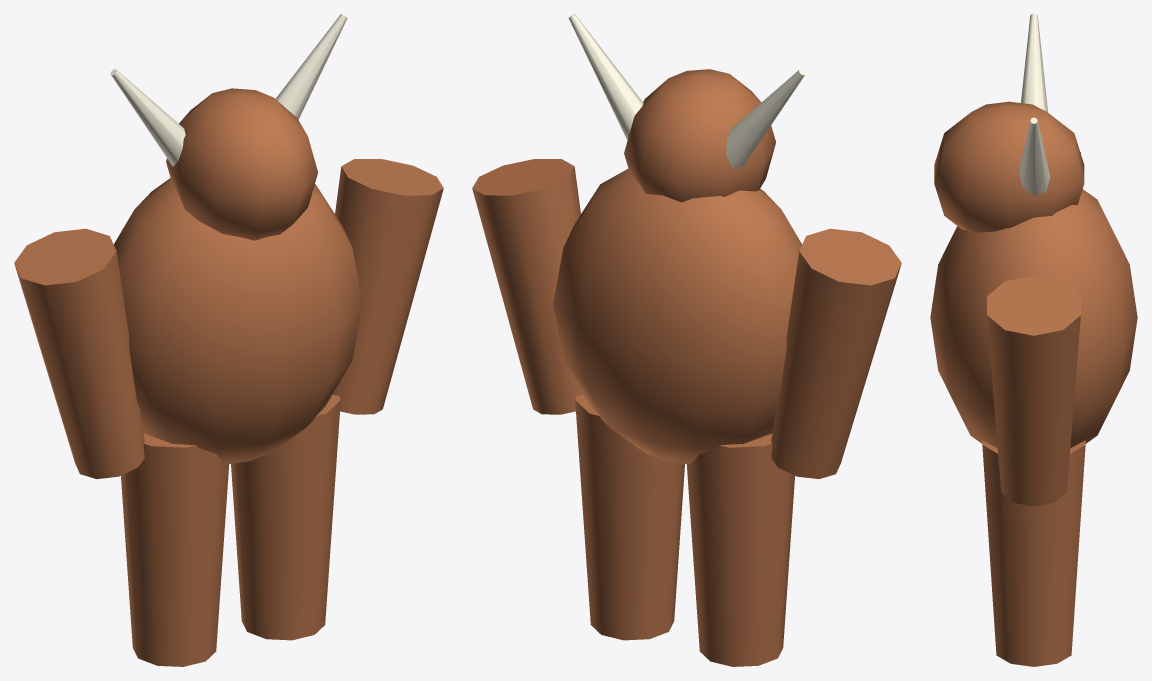
File: mon_bull.glb
3 views of the same model, side by side, from view 1: azimuth 30°, elevation 25°; view 2: azimuth 150°, elevation 25°; view 3: azimuth 270°, elevation 25° (orthographic). The views are drawn at different scales.
Visible parts, largest first — view 1: beast_body, beast_horns; view 2: beast_body, beast_horns; view 3: beast_body, beast_horns.
Boxes of the visible parts, x1,y1,x2,y2 form: beast_body: (14,88,443,666); beast_horns: (110,14,347,166); beast_body: (472,69,901,666); beast_horns: (568,14,805,167); beast_body: (930,101,1137,666); beast_horns: (1019,14,1050,195).
Size of the model in its own units: 1.83 by 2.5 by 0.84.
